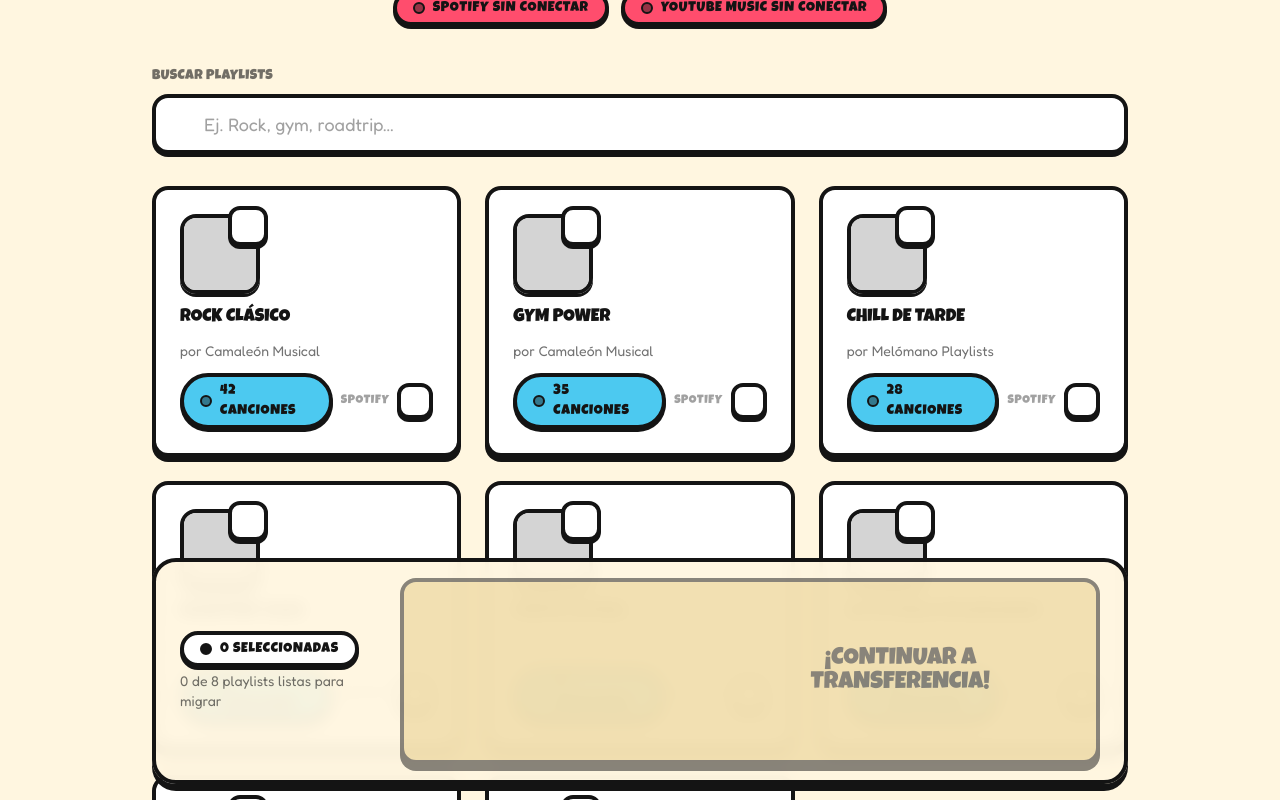
PlaylistSelectionComponent › muestra un error si falla la carga de canciones
This screenshot has width=1280, height=800.
(page scrolled)
Click the button named "Ver canciones de Rock Clásico": coordinates (415, 400) [397, 382, 433, 418]
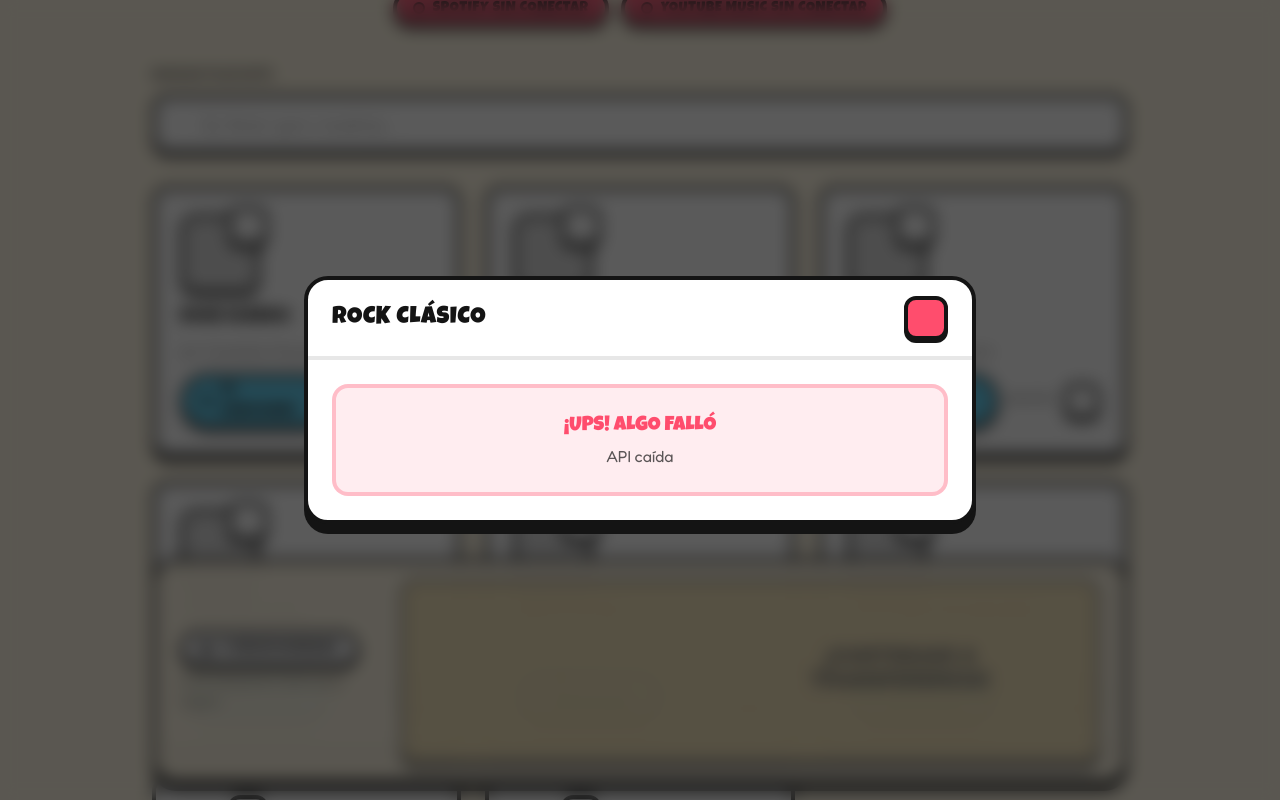
Check: the text "API caída" is shown, box [607, 446, 674, 466]
